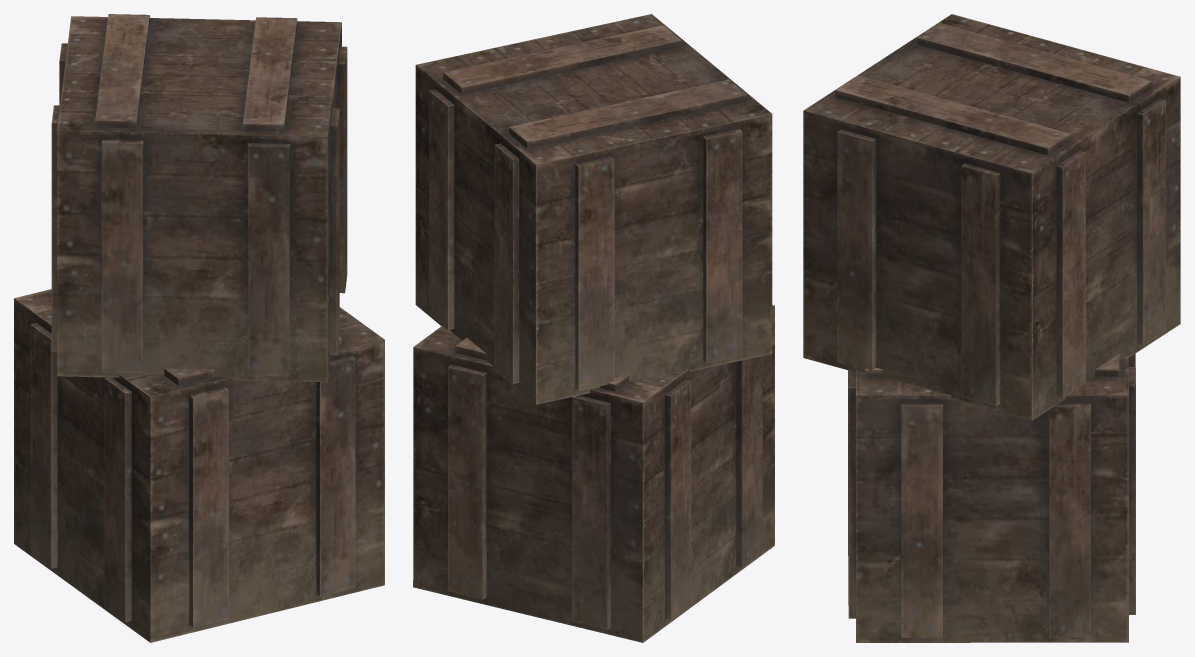
File: SHO_General_Store_CrateSet_3-transformed.glb
3 renders of one model, left to right at view 1: azimuth 30°, elevation 25°; view 2: azimuth 150°, elevation 25°; view 3: azimuth 270°, elevation 25°, orthographic. The views are drawn at different scales.
Visible parts, largest first — view 1: default; view 2: default; view 3: default.
Boxes of the visible parts, box(x1,y1,x2,y2) form: default: box(14, 14, 384, 642); default: box(413, 14, 774, 642); default: box(803, 14, 1180, 642).
Size of the model in its own units: 0.8562 by 1.25 by 0.8562.
Materials: 1 (1 with a texture image).
